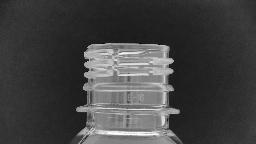No Cap: (71, 40, 183, 118)
